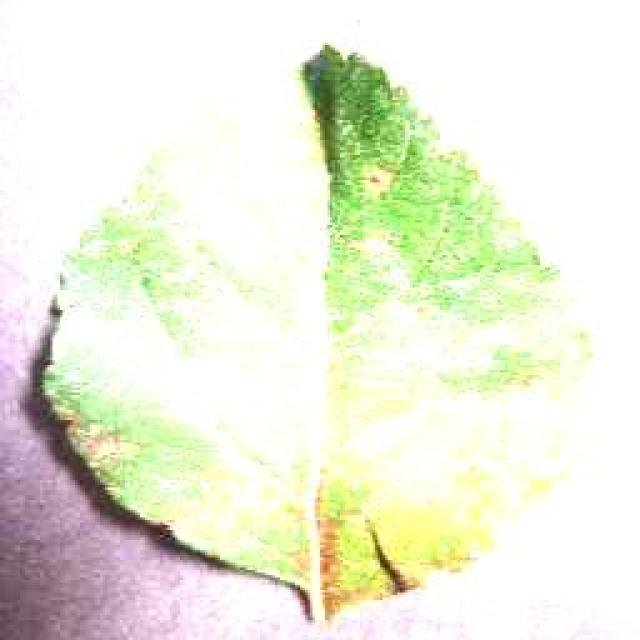apple healthy: (35, 40, 595, 628)
